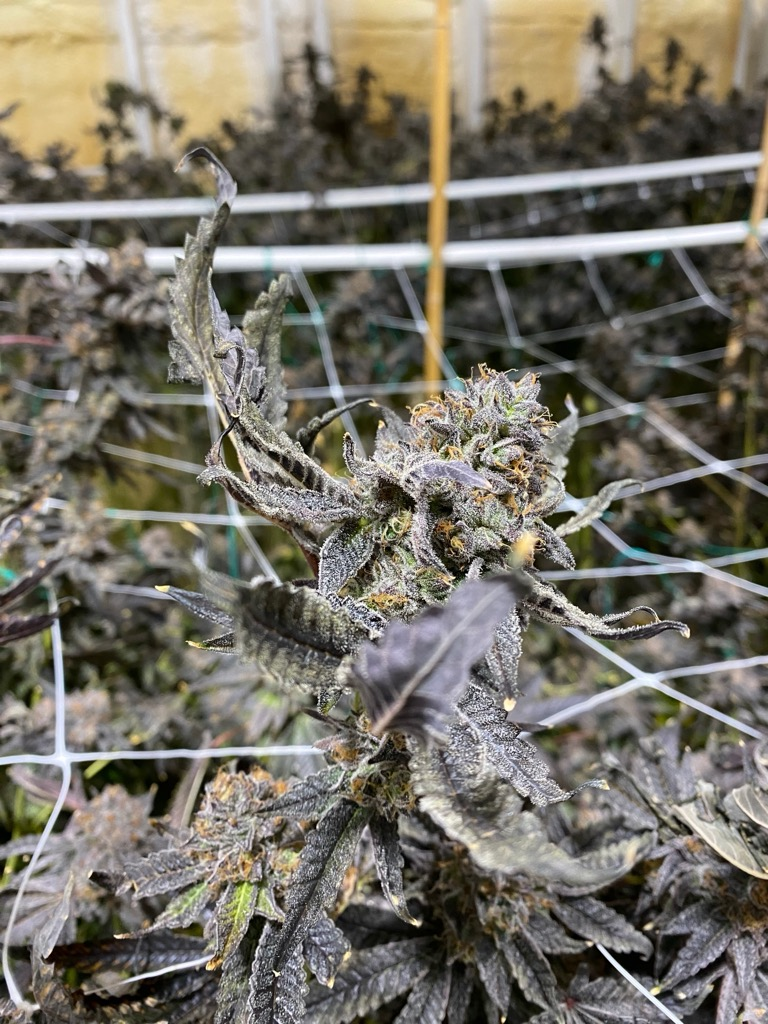Bud: (325, 362, 555, 642)
Leaf: (179, 153, 360, 545), (238, 768, 378, 995), (345, 581, 519, 728), (208, 425, 353, 569), (288, 930, 449, 1023), (454, 683, 581, 800), (646, 899, 734, 1008), (499, 828, 643, 894), (111, 866, 216, 945), (496, 910, 572, 1009), (551, 887, 659, 956), (208, 876, 262, 975), (519, 902, 596, 958), (470, 938, 522, 1012), (402, 960, 452, 1023), (115, 856, 201, 887)
Stem: (201, 761, 286, 870)
